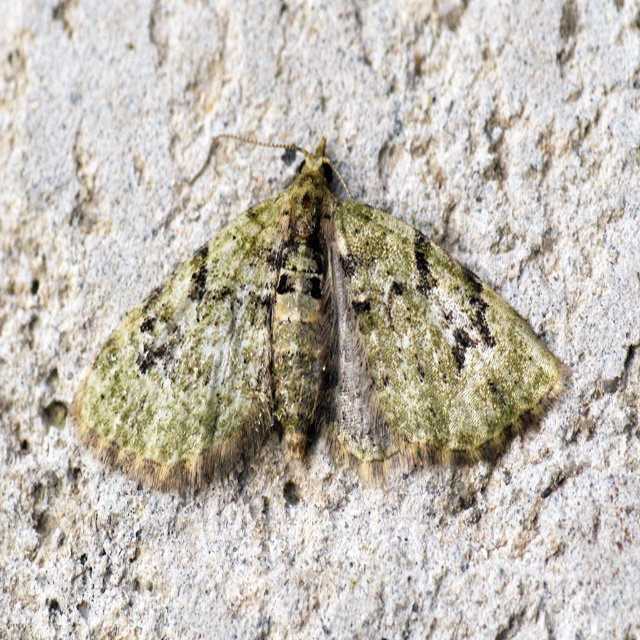Moths and butterflies: (63, 125, 572, 496)
